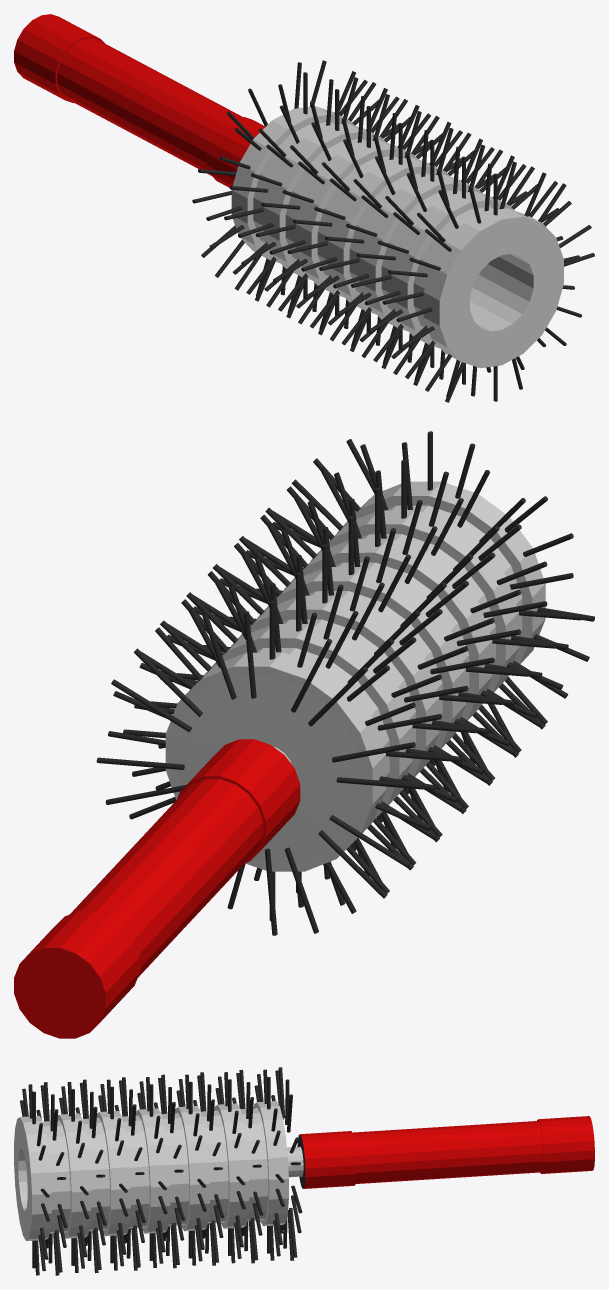
File: hairbrush_0.glb
3 views of the same model, one above another, from view 1: azimuth 30°, elevation 25°; view 2: azimuth 150°, elevation 25°; view 3: azimuth 270°, elevation 25° (orthographic). The views are drawn at different scales.
Parts seen in each view (by area): view 1: c4a24d1b8e024b6894e03f23ab0fdcda; view 2: c4a24d1b8e024b6894e03f23ab0fdcda; view 3: c4a24d1b8e024b6894e03f23ab0fdcda.
Part boxes in pixels (x1,y1,x2,y2): c4a24d1b8e024b6894e03f23ab0fdcda: [14, 14, 594, 402]; c4a24d1b8e024b6894e03f23ab0fdcda: [14, 431, 594, 1038]; c4a24d1b8e024b6894e03f23ab0fdcda: [14, 1067, 594, 1275].
Size of the model in its own units: 0.3947 by 0.3334 by 1.
